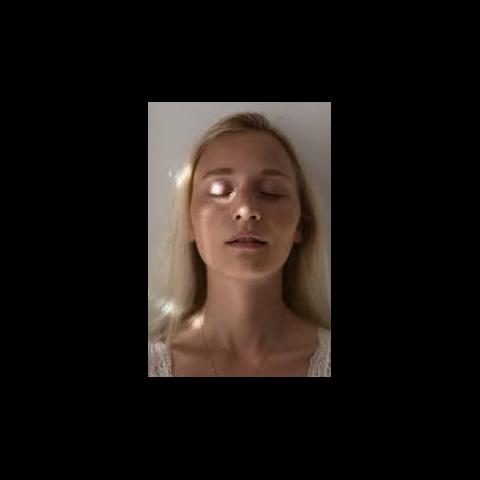closed: (198, 162, 292, 208)
